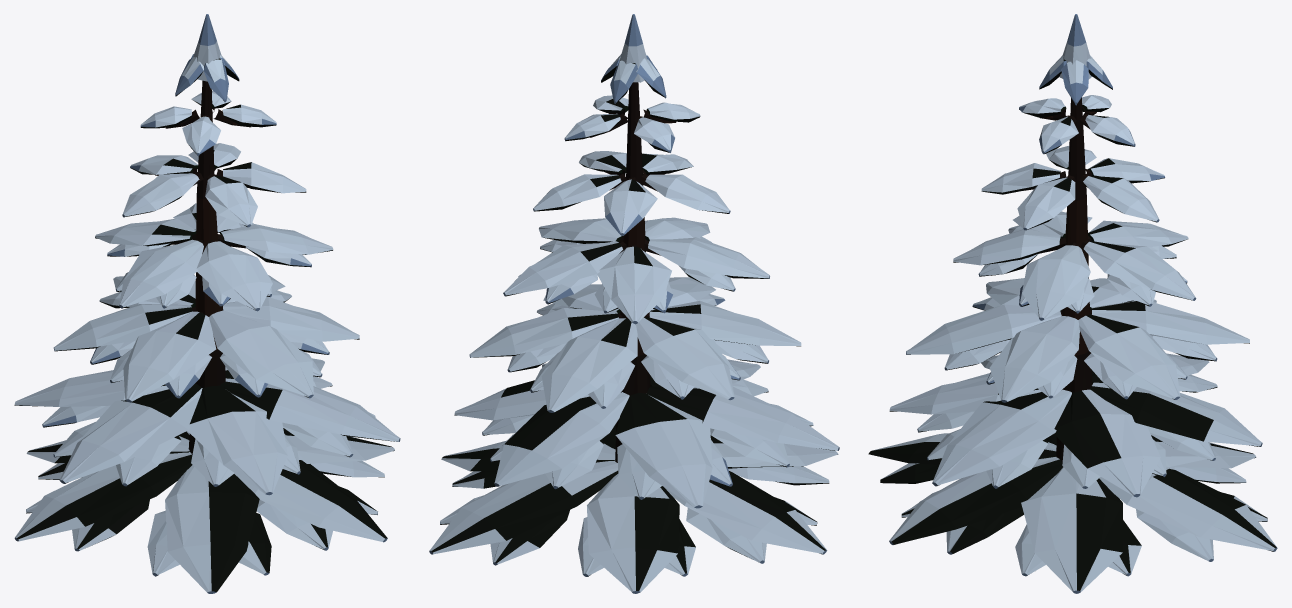
The model's file is flora_snow_pine_canopy.glb.
3 renders of one model, left to right at view 1: azimuth 30°, elevation 25°; view 2: azimuth 150°, elevation 25°; view 3: azimuth 270°, elevation 25°, orthographic.
Parts seen in each view (by area): view 1: Flora_Snow_Pine_Canopy; view 2: Flora_Snow_Pine_Canopy; view 3: Flora_Snow_Pine_Canopy.
Part boxes in pixels (x1,y1,x2,y2): Flora_Snow_Pine_Canopy: (14, 14, 400, 593); Flora_Snow_Pine_Canopy: (429, 14, 839, 593); Flora_Snow_Pine_Canopy: (868, 14, 1277, 593).
Bounding box in the file's own units: 5 × 6.13 × 4.66.
